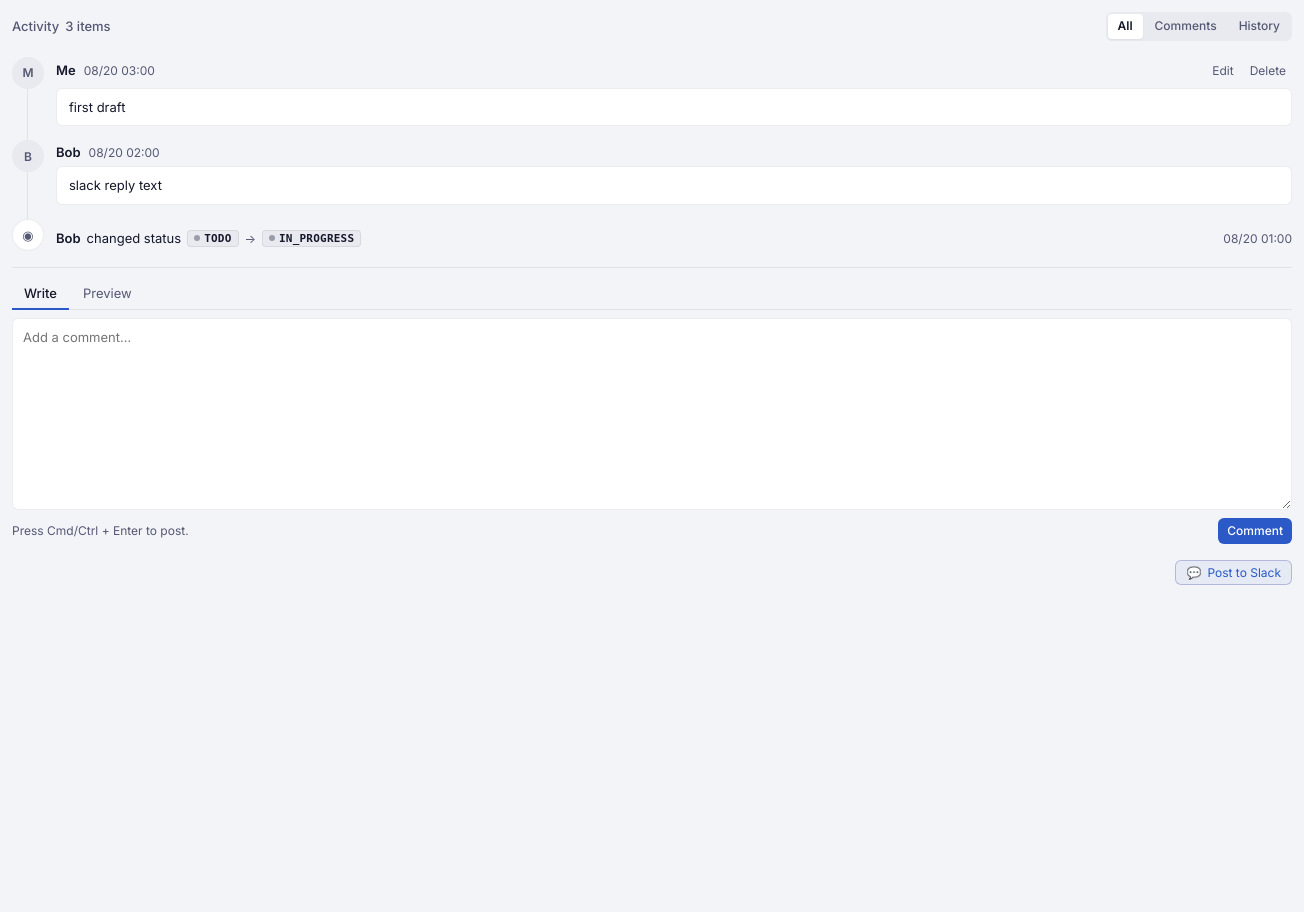
ActionActivity comments › keeps the editor open with an error when saving fails
The width and height of the screenshot is (1304, 912).
Expected: the element with test id "activity-comment-c-mine" is shown, x1=12 y1=53 x2=1292 y2=130
Click the button with test id "action-comment-edit-c-mine": click(1223, 71) x1=1206 y1=61 x2=1240 y2=82
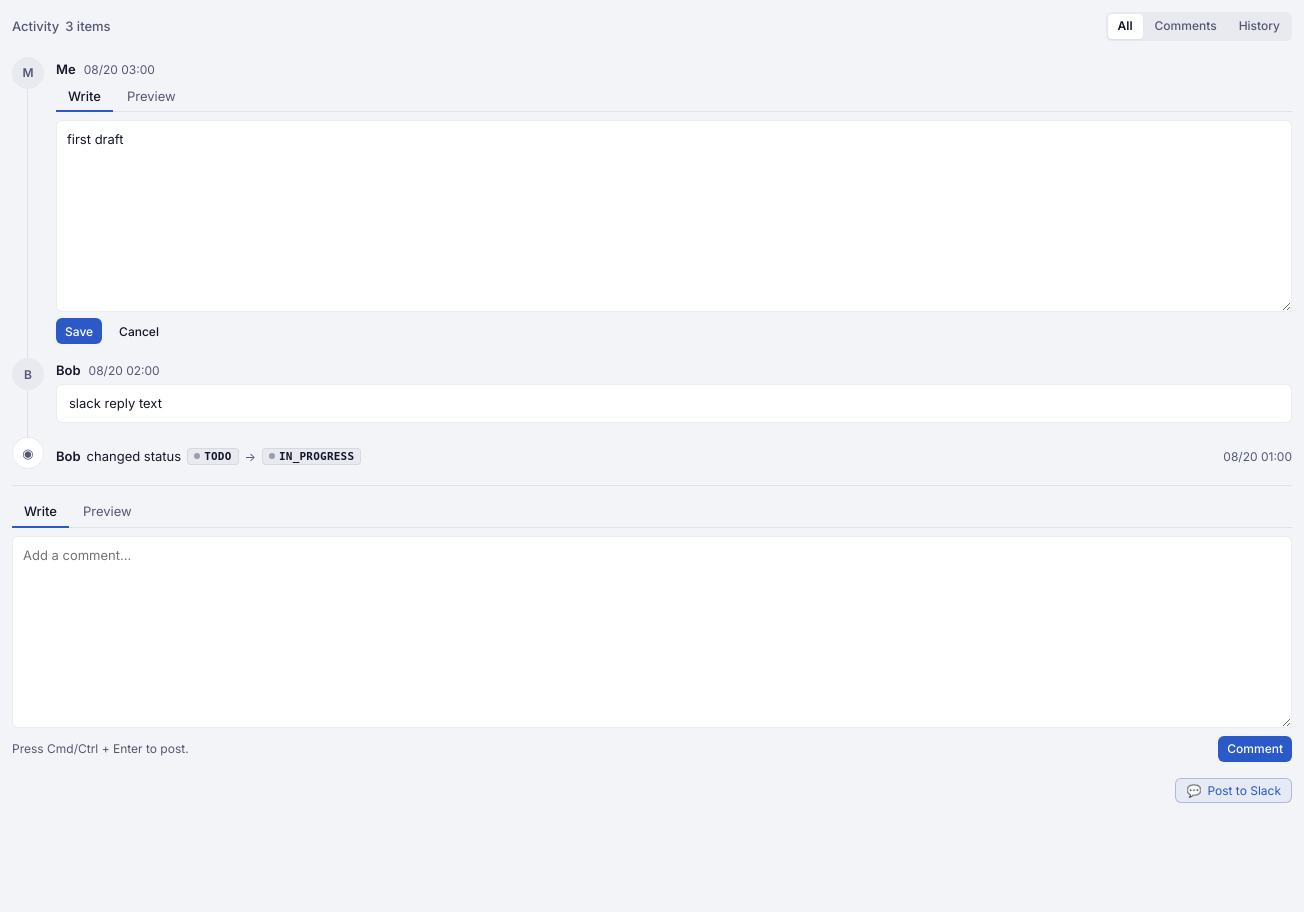
Replace the text in the text box with test id "action-comment-editor-c-mine-textarea" with "doomed edit": (674, 216) x1=56 y1=120 x2=1292 y2=312
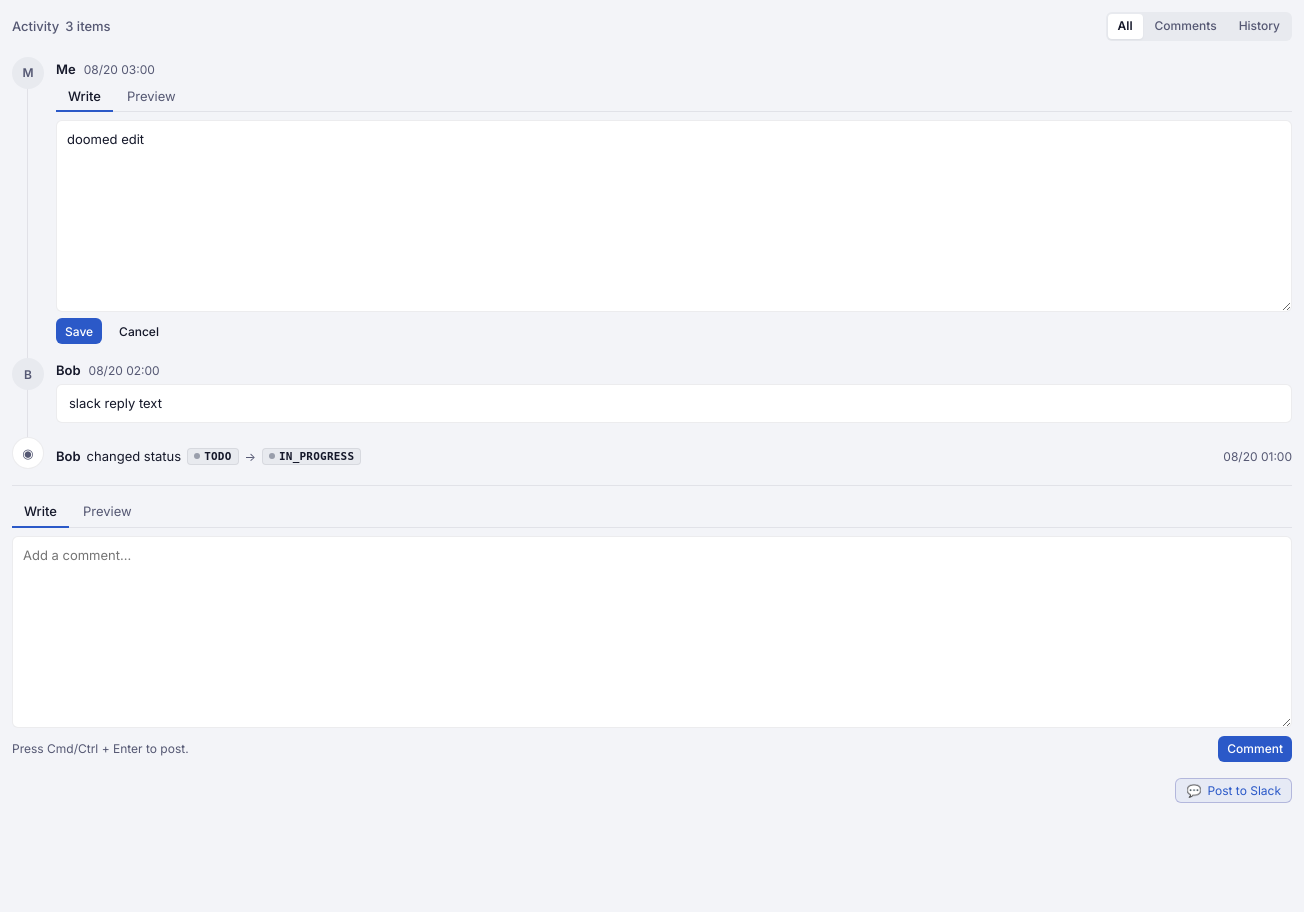
Click the button with test id "action-comment-save-c-mine": click(79, 331) x1=56 y1=318 x2=102 y2=344
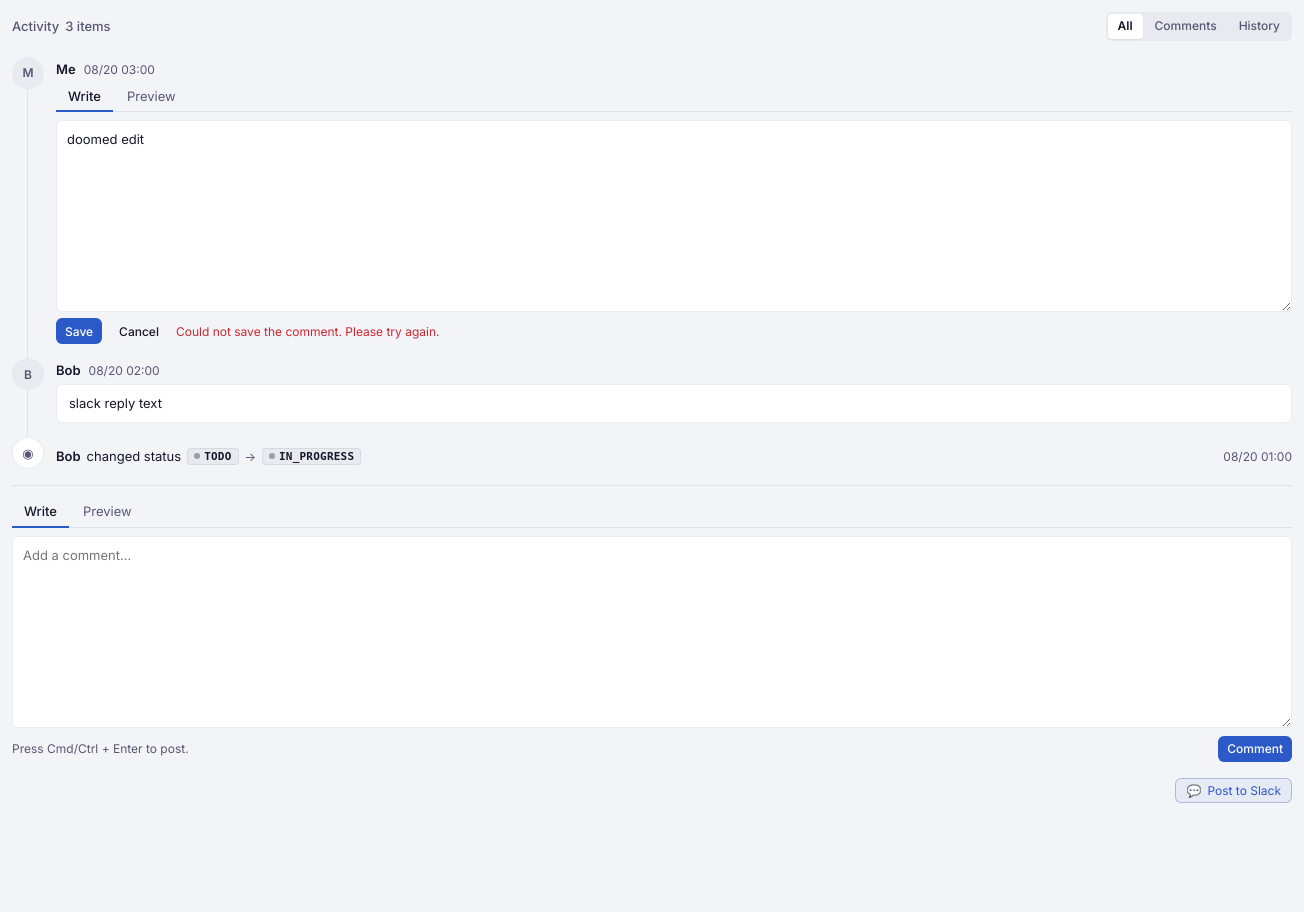
Result: the message "Could not save the comment. Please try again." is shown at x1=176 y1=324 x2=440 y2=339
